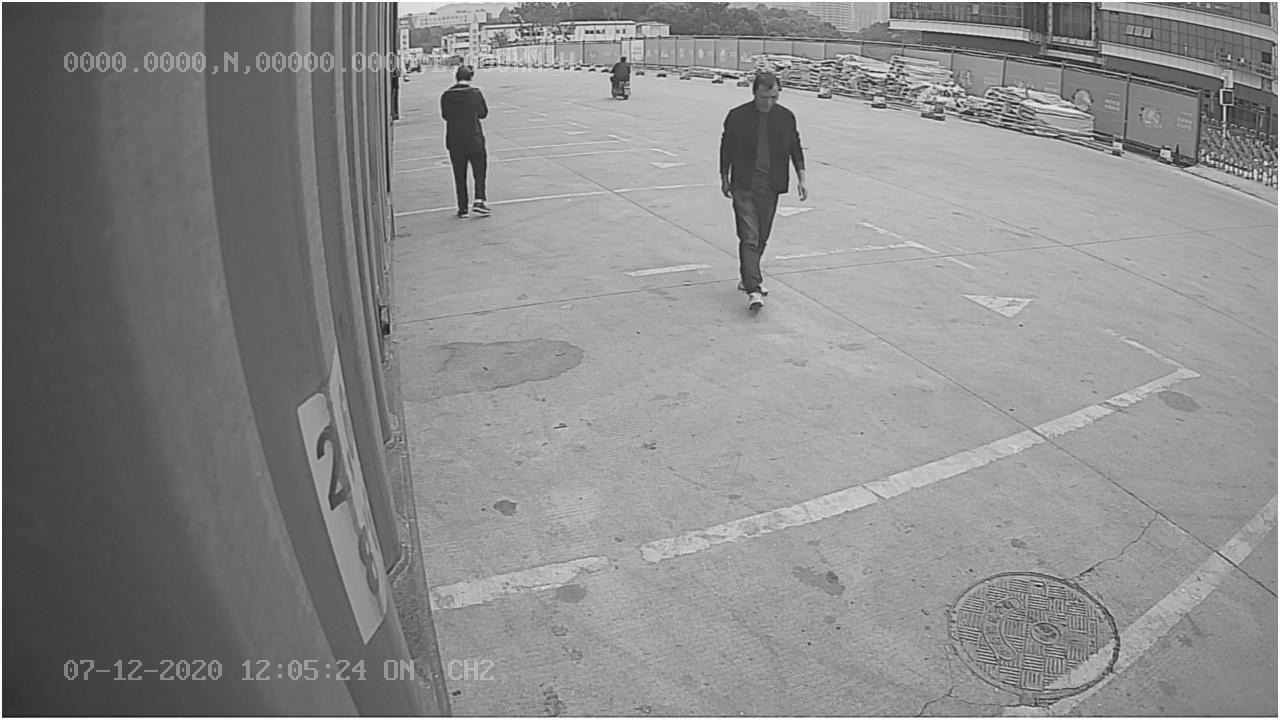person: (715, 63, 811, 312)
